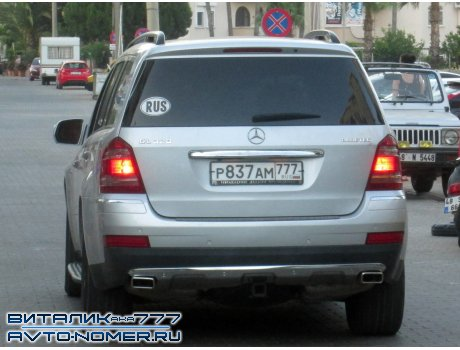number_plate: (214, 158, 304, 187)
